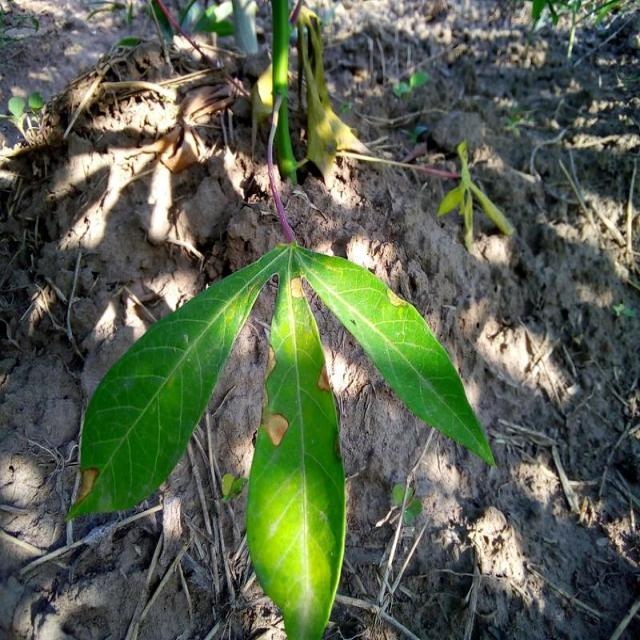cassava leaf: (68, 239, 498, 638), (66, 241, 290, 522), (294, 242, 498, 468), (246, 265, 348, 638)
